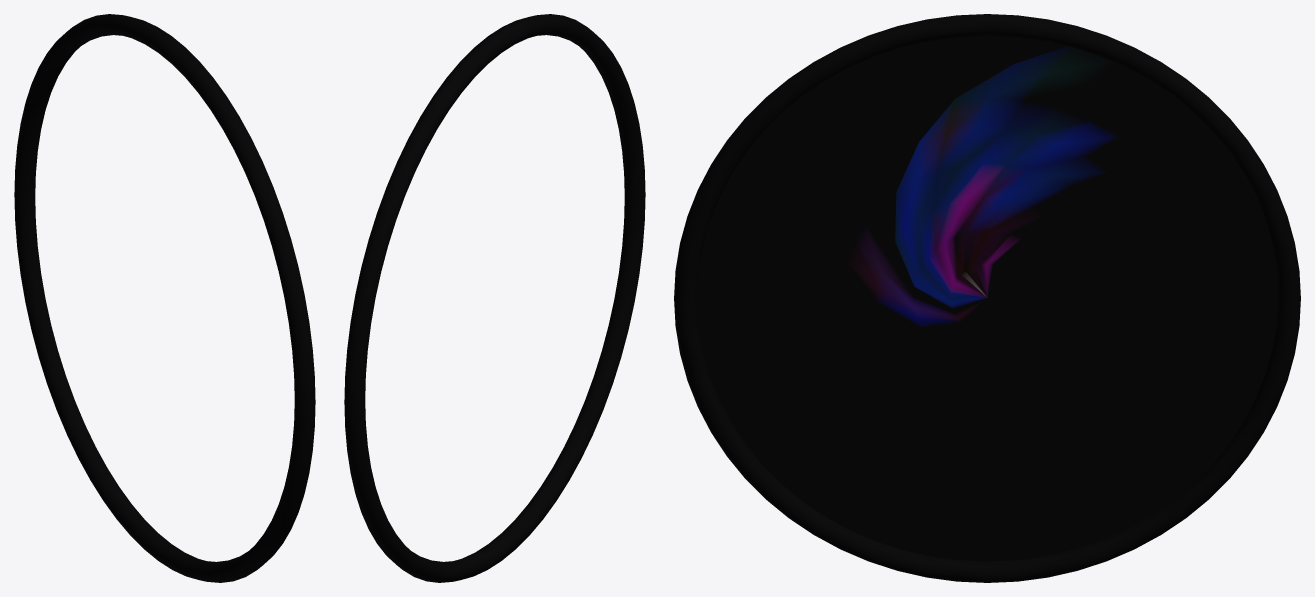
The model's file is SM_Travel_Ring.gltf.
3 renders of one model, left to right at view 1: azimuth 30°, elevation 25°; view 2: azimuth 150°, elevation 25°; view 3: azimuth 270°, elevation 25°, orthographic. The views are drawn at different scales.
Parts seen in each view (by area): view 1: SM_Travel_Ring; view 2: SM_Travel_Ring; view 3: SM_Travel_Ring.
Part boxes in pixels (x1=…): SM_Travel_Ring: x1=14, y1=14, x2=315, y2=582; SM_Travel_Ring: x1=344, y1=14, x2=645, y2=582; SM_Travel_Ring: x1=674, y1=14, x2=1300, y2=582.
Size of the model in its own units: 0.505 by 13.63 by 13.63.
